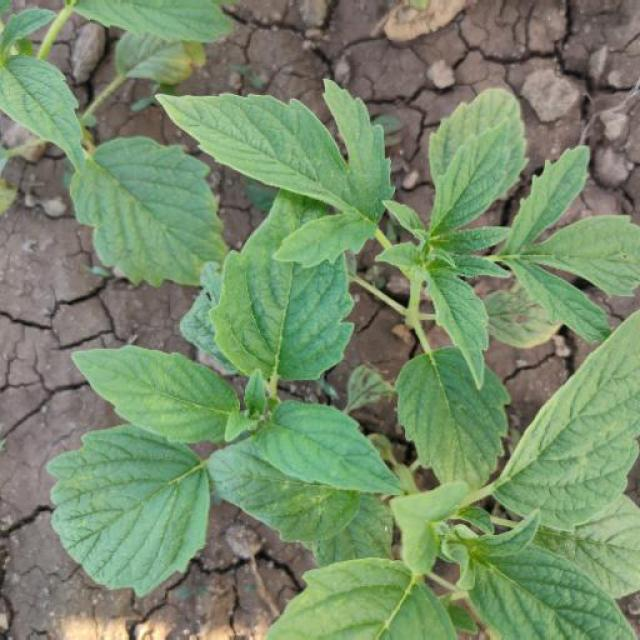crop: (65, 116, 630, 640)
